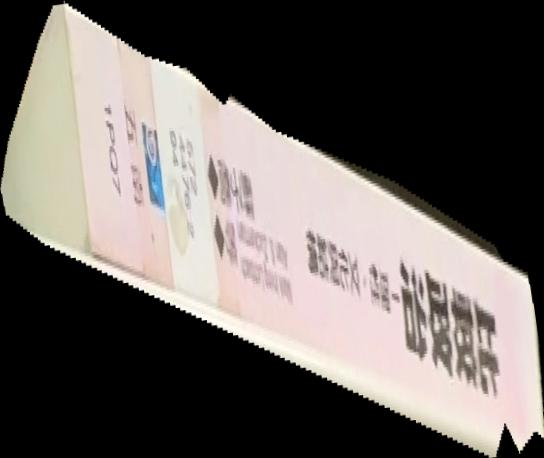flat: (1, 1, 544, 458)
